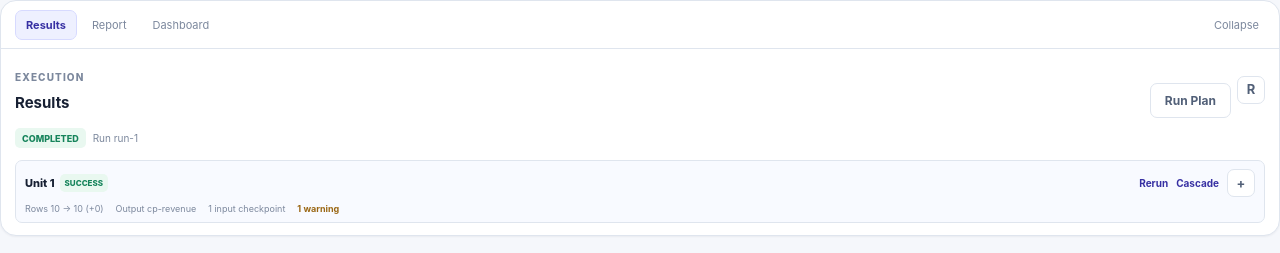
Output Dock › renders a retained report after opening the Report tab
Click the tab "Report" at (109, 24), box [81,10,138,40]
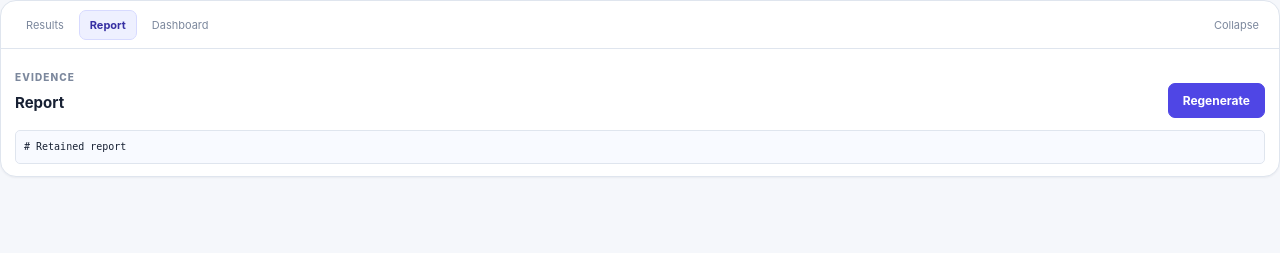
expect the text "# Retained report" is shown: met, box [15,130,1265,164]
